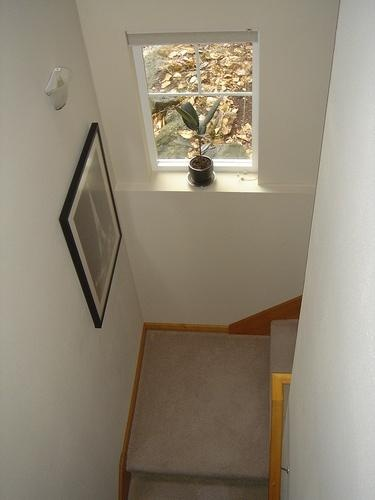pottedplant: (172, 96, 230, 191)
